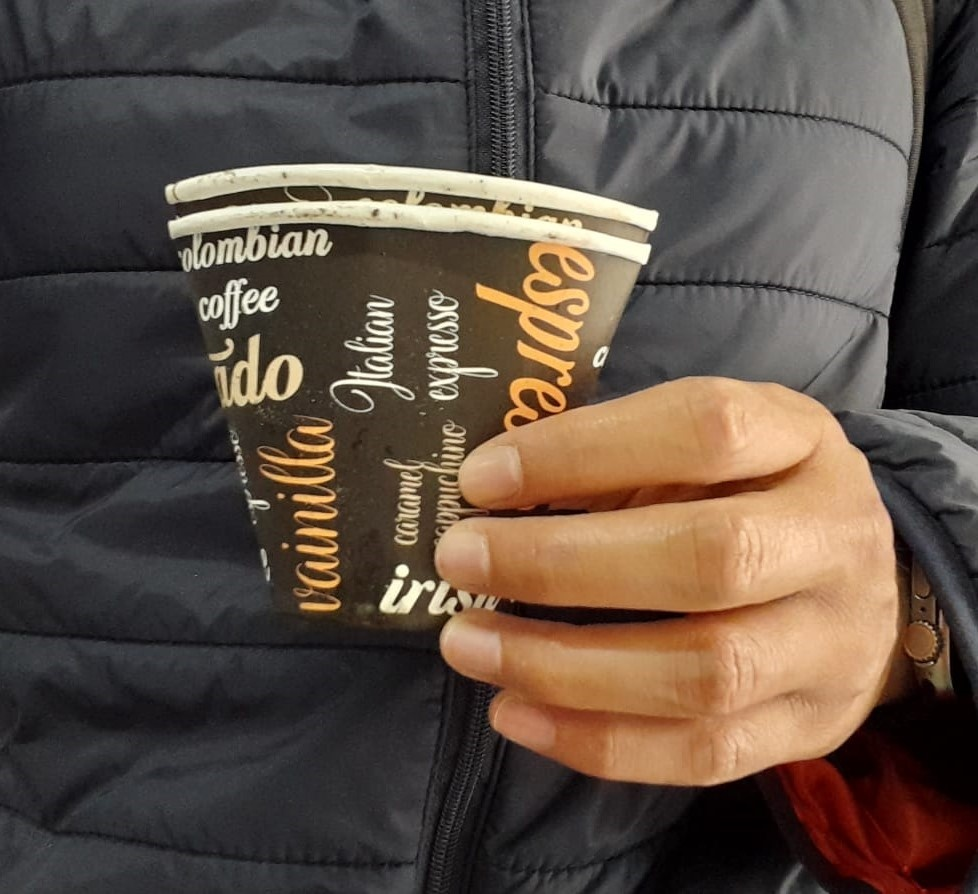Carton: (165, 163, 662, 626)
